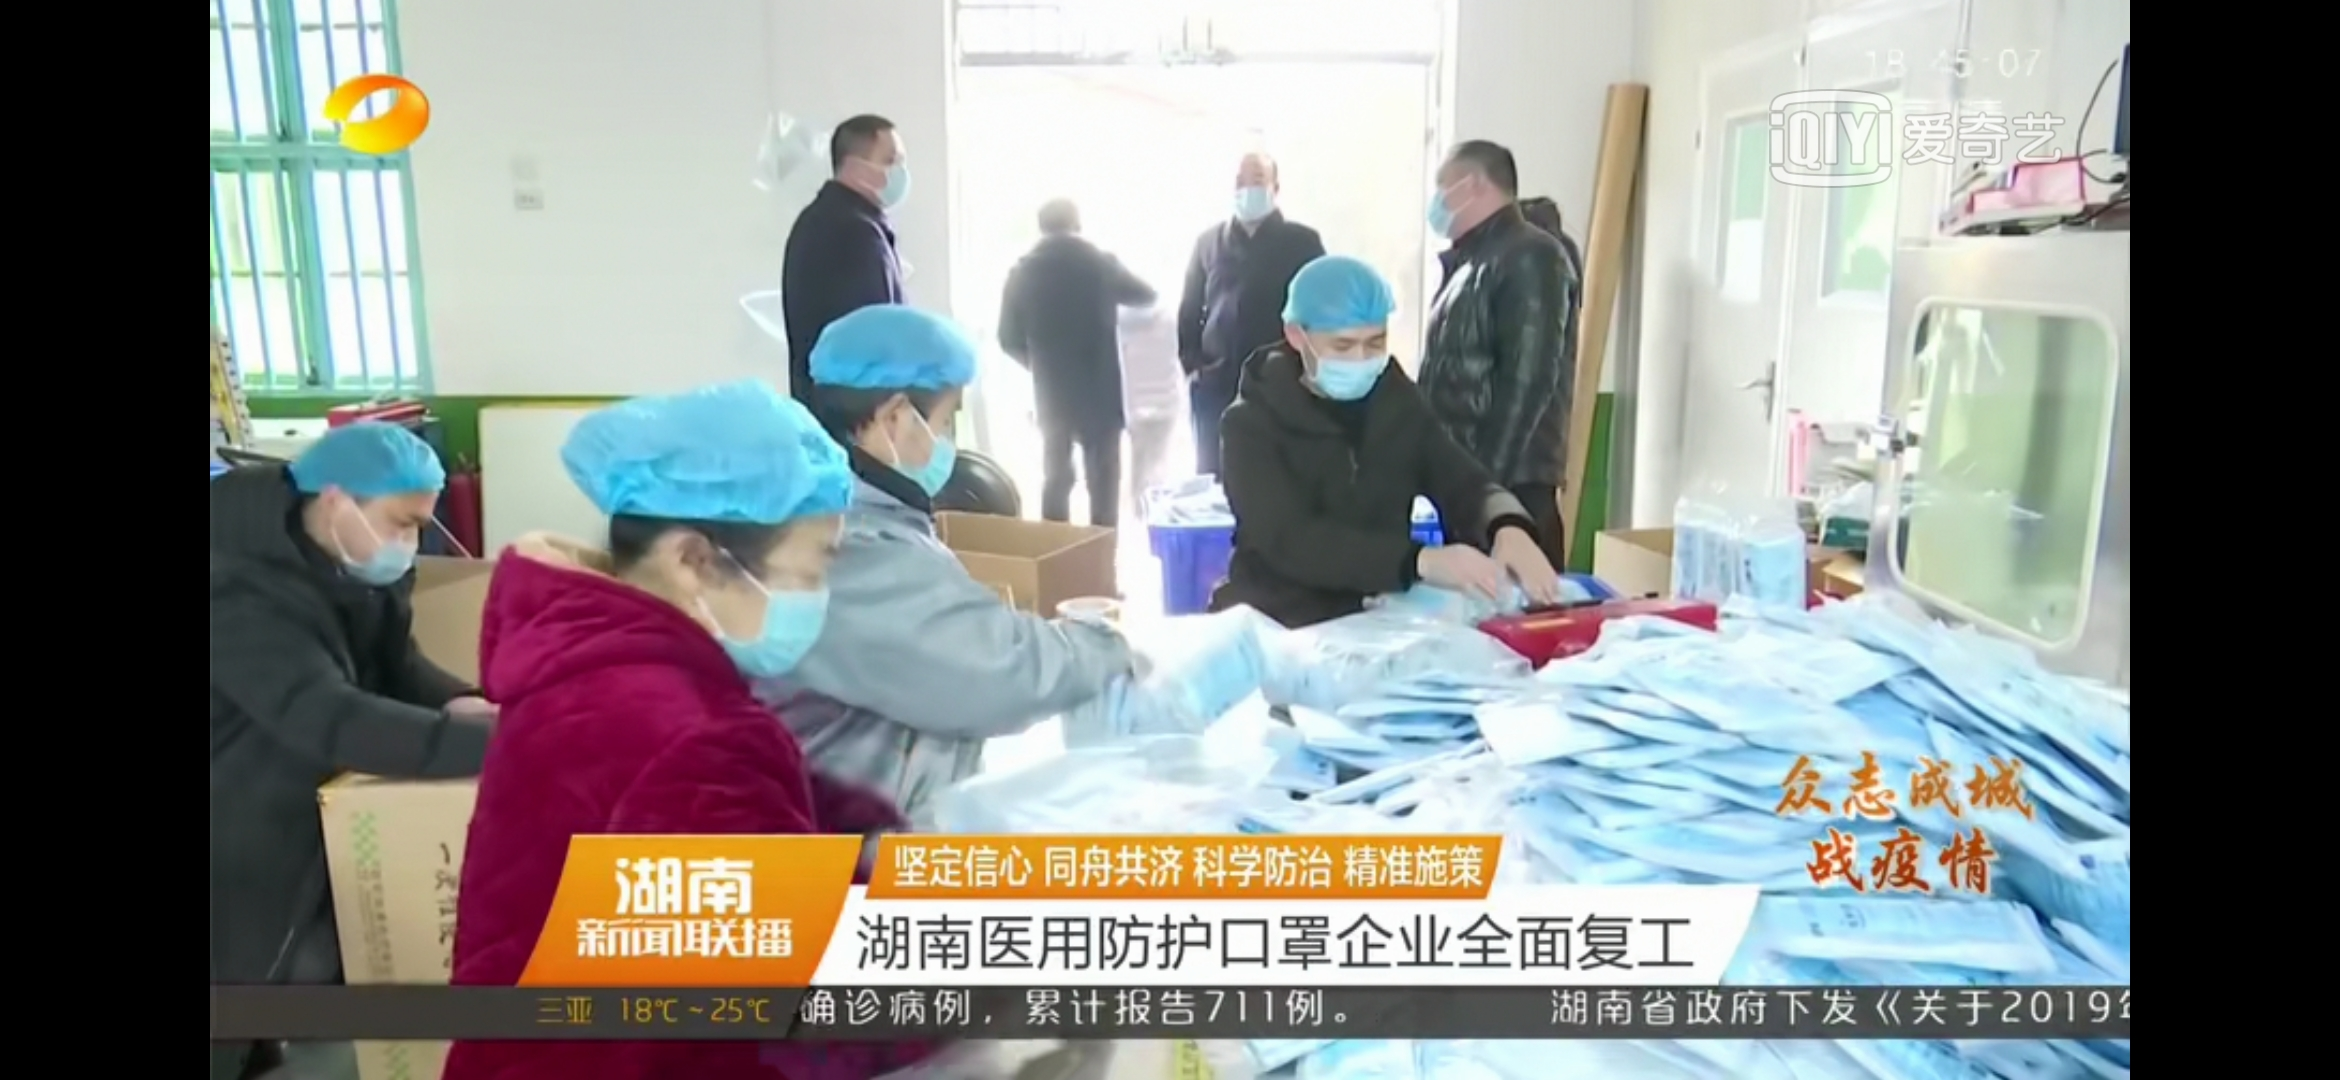correctlyWear: (669, 497, 831, 682), (316, 464, 437, 585), (872, 367, 966, 492), (1286, 297, 1392, 401), (1424, 157, 1512, 242), (843, 130, 919, 213), (1224, 167, 1280, 228)
